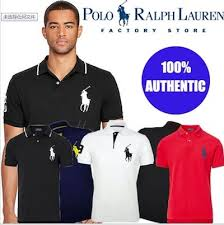C_polo shirt: (76, 124, 157, 225), (8, 127, 77, 221), (157, 122, 224, 217)
